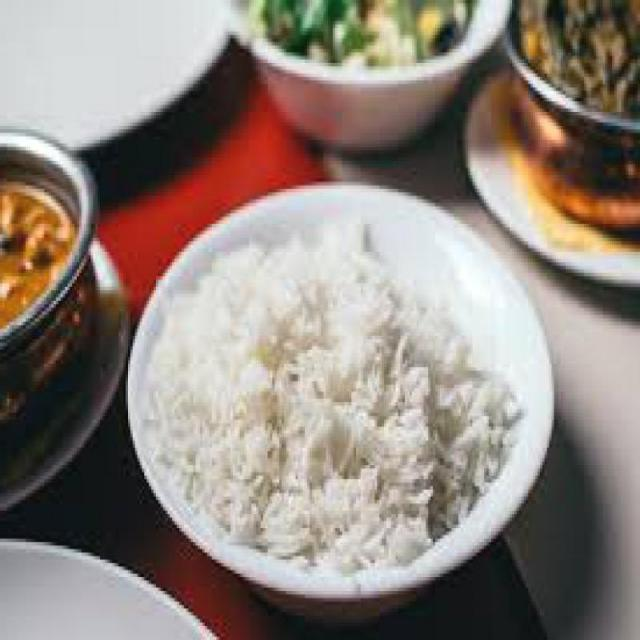rice: (142, 221, 522, 580)
